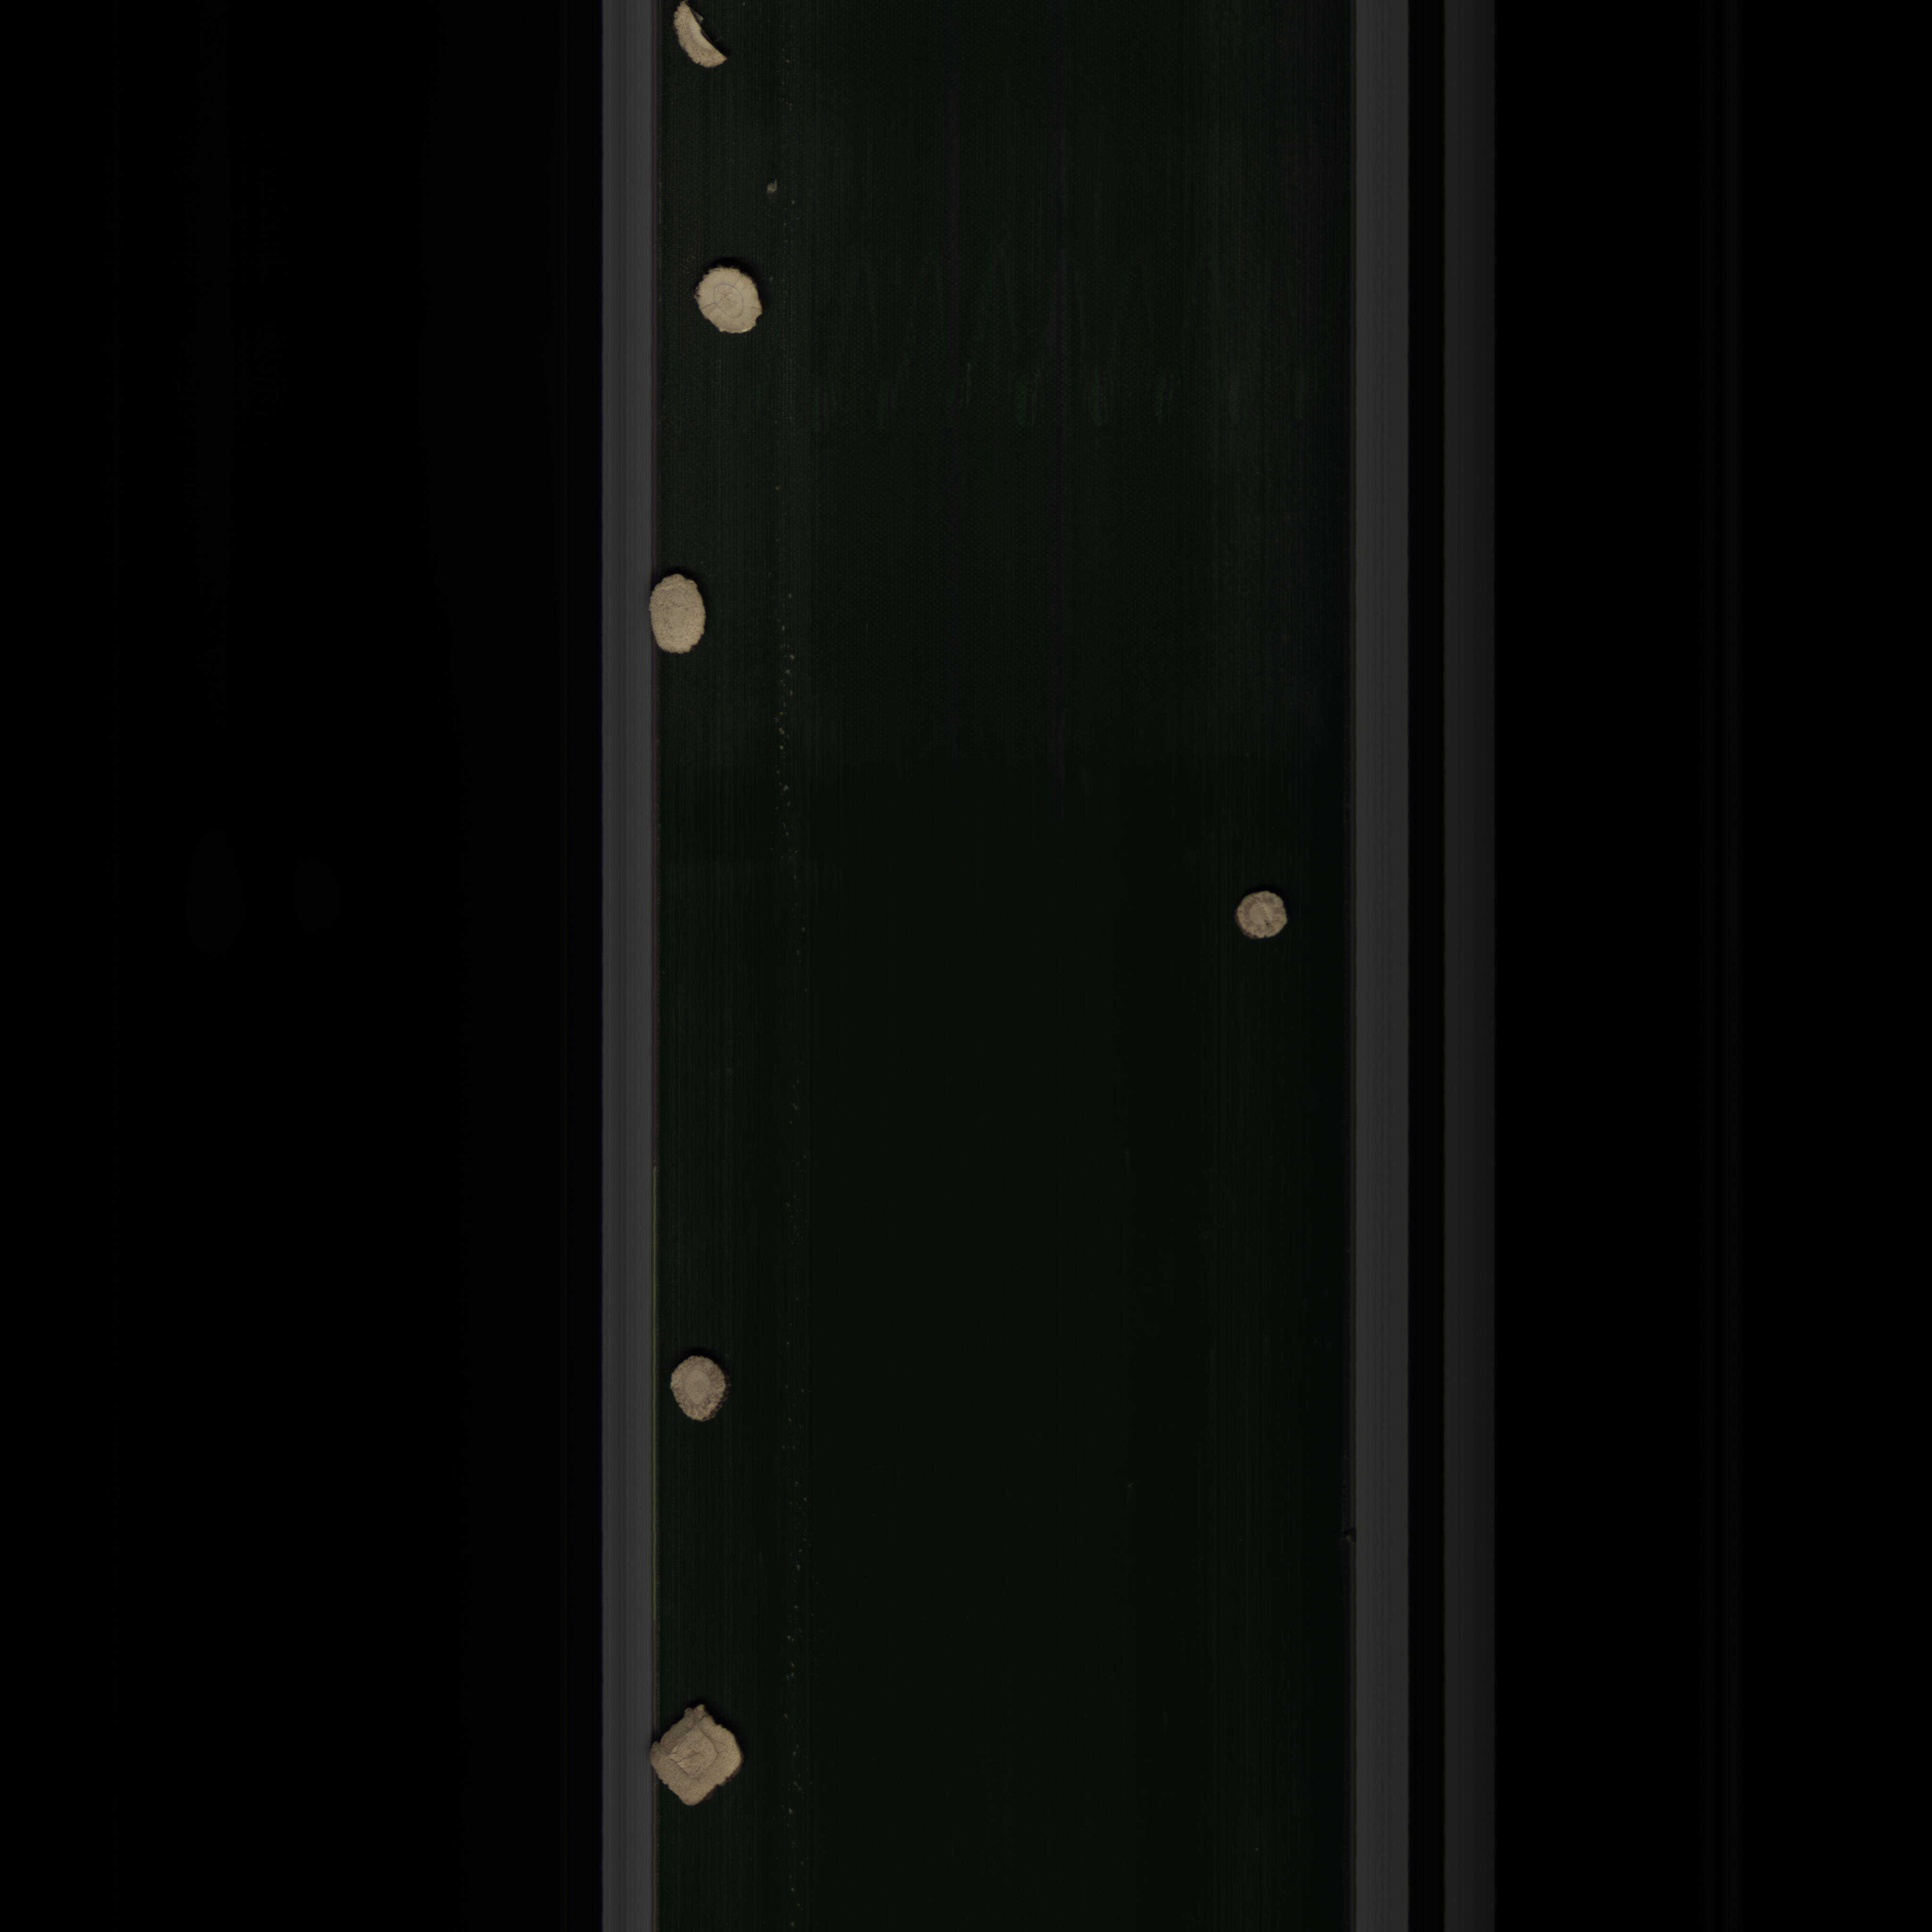debris: (669, 2, 732, 67)
distortion: (649, 1697, 755, 1819)
